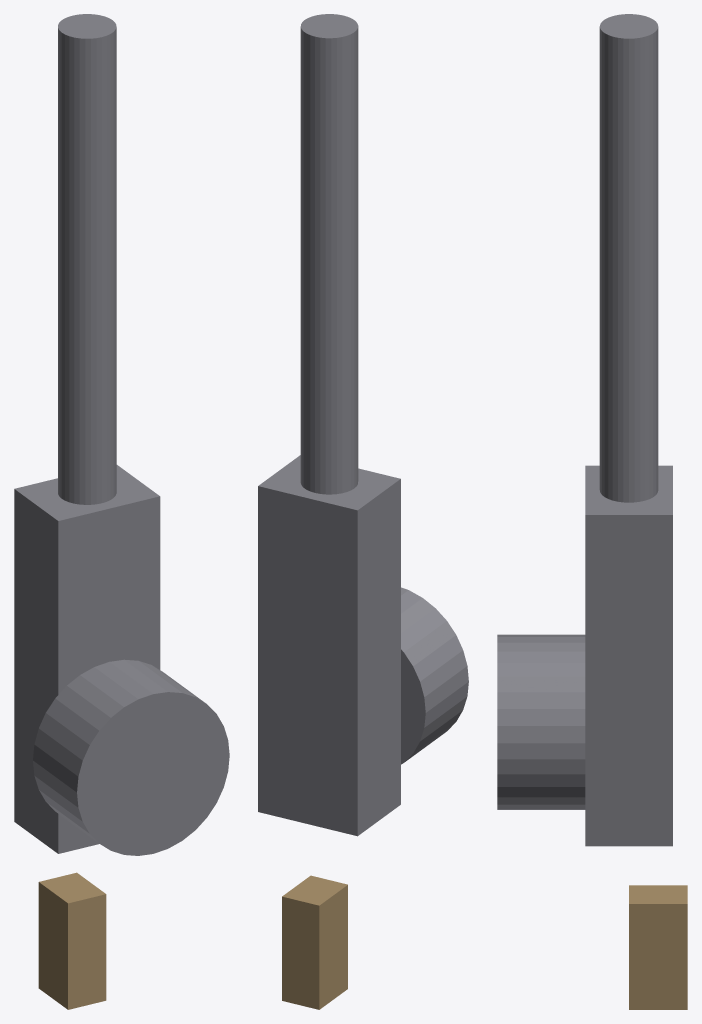
Rendered from machinegun.glb.
3 renders of one model, left to right at view 1: azimuth 30°, elevation 25°; view 2: azimuth 150°, elevation 25°; view 3: azimuth 270°, elevation 25°, orthographic. The views are drawn at different scales.
Visible parts, largest first — view 1: Body, Drum, Barrel, Stock; view 2: Body, Barrel, Drum, Stock; view 3: Body, Barrel, Drum, Stock.
Part boxes in pixels (x1,y1,x2,y2): Body: (14,465,160,853); Drum: (33,659,229,855); Barrel: (58,14,116,504); Stock: (38,872,106,1009); Body: (258,455,400,836); Barrel: (300,14,358,494); Drum: (401,587,468,764); Stock: (282,875,347,1009); Body: (585,465,672,846); Barrel: (599,14,658,502); Drum: (497,634,585,809); Stock: (629,885,687,1009).
Size of the model in its own units: 0.12 by 0.735 by 0.13.
